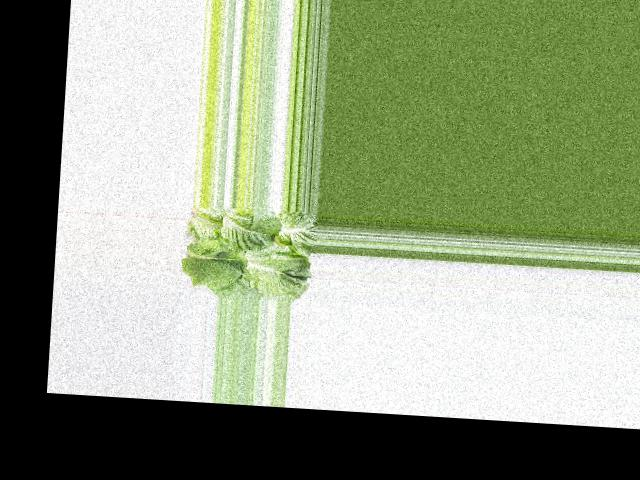lettuce: (183, 204, 315, 300)
